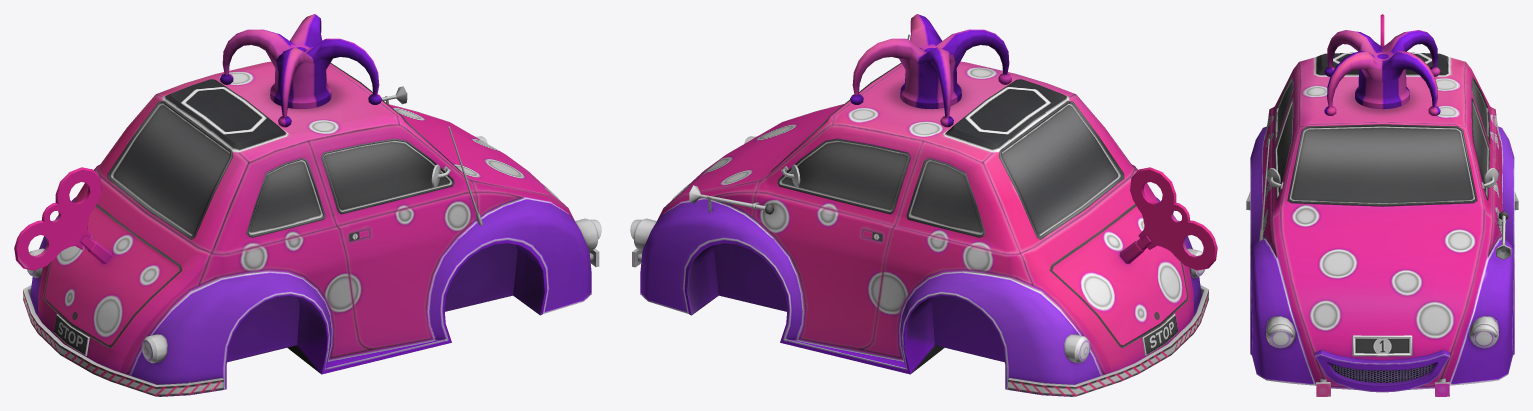
File: f1_car_clown_03.dae
3 views of the same model, side by side, from view 1: azimuth 30°, elevation 25°; view 2: azimuth 150°, elevation 25°; view 3: azimuth 270°, elevation 25° (orthographic). The views are drawn at different scales.
Parts seen in each view (by area): view 1: car_body; view 2: car_body; view 3: car_body.
Part boxes in pixels (x1,y1,x2,y2): car_body: [14, 14, 601, 396]; car_body: [630, 14, 1217, 396]; car_body: [1246, 14, 1518, 396].
Bounding box in the file's own units: 0.4024 × 0.1936 × 0.1918.
1 material, 1 textured.
